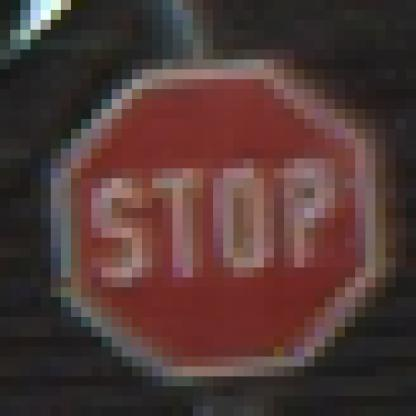Stop: (60, 68, 377, 376)
